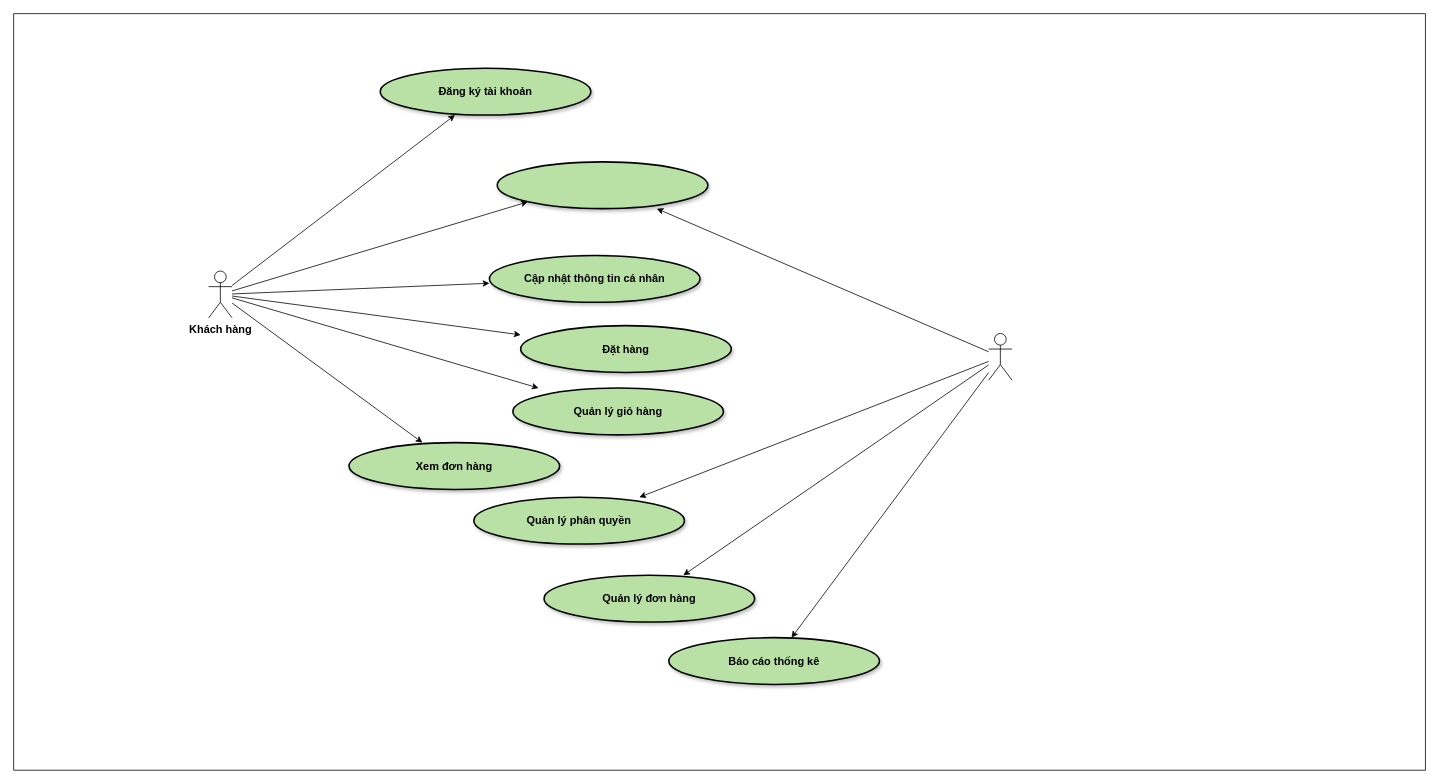
The diagram is 1439 pixels wide and 784 high, and some of its shapes have lost their labels. Here are the shapes that lost their labels. From the top down, the centre of each, then its label:
(603,186): Đăng ký / đăng nhập
(1000,356): Hệ thống
